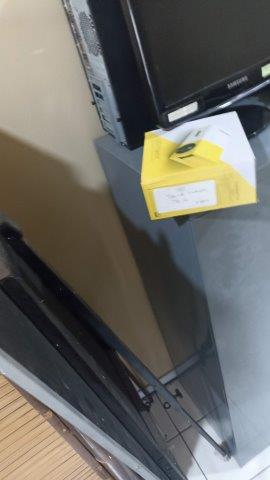kardus: (142, 112, 253, 221)
